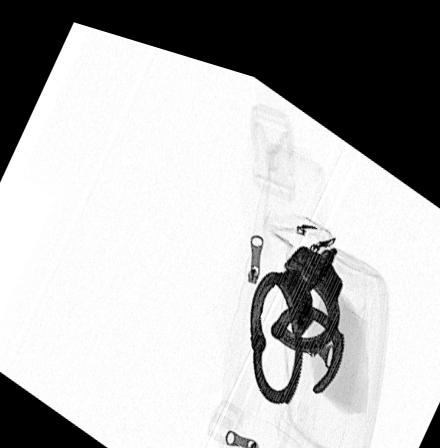HandCuffs: (246, 222, 347, 391)
